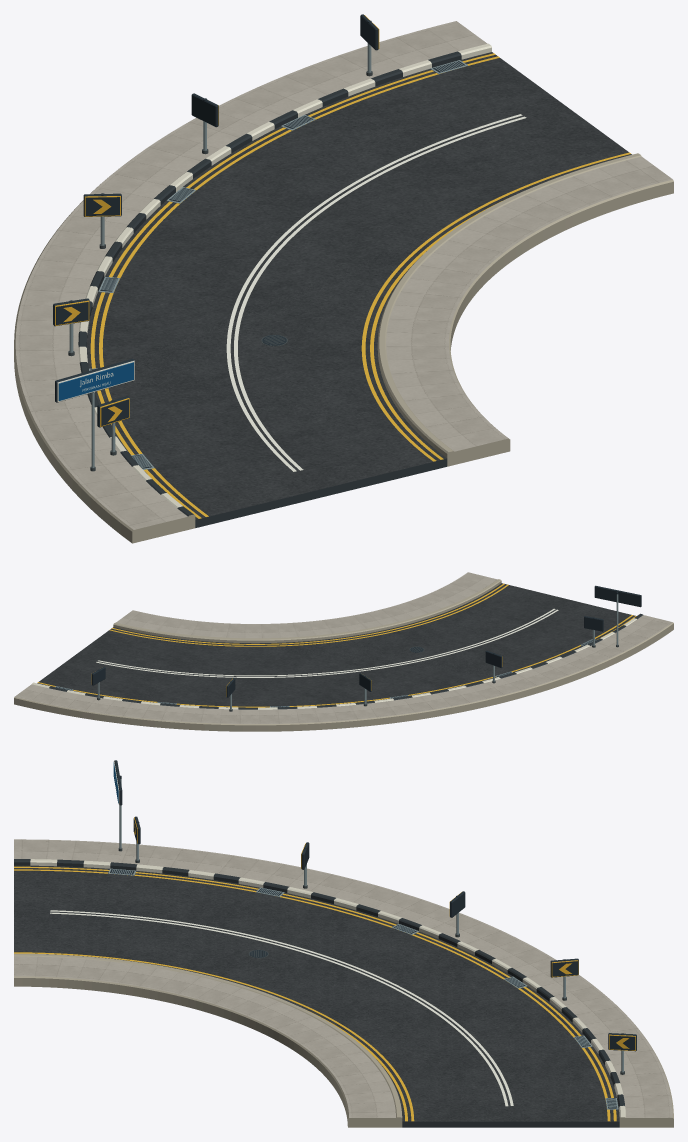
The picture shows the model from 3 angles, top to bottom: view 1: azimuth 30°, elevation 25°; view 2: azimuth 150°, elevation 25°; view 3: azimuth 270°, elevation 25°; orthographic projection. The views are drawn at different scales.
Parts seen in each view (by area): view 1: Road Deck, Kerbs and Footways, Road Markings, Bend Chevron Boards, Local Street Signs, Drainage and Utility Covers; view 2: Road Deck, Kerbs and Footways, Road Markings, Bend Chevron Boards, Local Street Signs, Drainage and Utility Covers; view 3: Road Deck, Kerbs and Footways, Road Markings, Bend Chevron Boards, Drainage and Utility Covers.
Boxes of the visible parts, bbox=[...] form: Road Deck: bbox=[87, 52, 631, 527]; Kerbs and Footways: bbox=[14, 21, 673, 543]; Road Markings: bbox=[90, 53, 630, 518]; Bend Chevron Boards: bbox=[53, 14, 379, 455]; Local Street Signs: bbox=[55, 358, 134, 471]; Drainage and Utility Covers: bbox=[89, 60, 467, 469]; Road Deck: bbox=[37, 583, 635, 707]; Kerbs and Footways: bbox=[14, 572, 673, 731]; Road Markings: bbox=[37, 583, 636, 707]; Bend Chevron Boards: bbox=[91, 616, 603, 711]; Local Street Signs: bbox=[594, 585, 641, 647]; Drainage and Utility Covers: bbox=[55, 639, 596, 707]; Road Deck: bbox=[14, 865, 619, 1127]; Kerbs and Footways: bbox=[14, 839, 673, 1127]; Road Markings: bbox=[14, 866, 616, 1121]; Bend Chevron Boards: bbox=[133, 816, 636, 1074]; Drainage and Utility Covers: bbox=[108, 868, 618, 1109].
Bounding box in the file's own units: 21.49 × 3.04 × 21.25.
14 materials, 2 textured.
